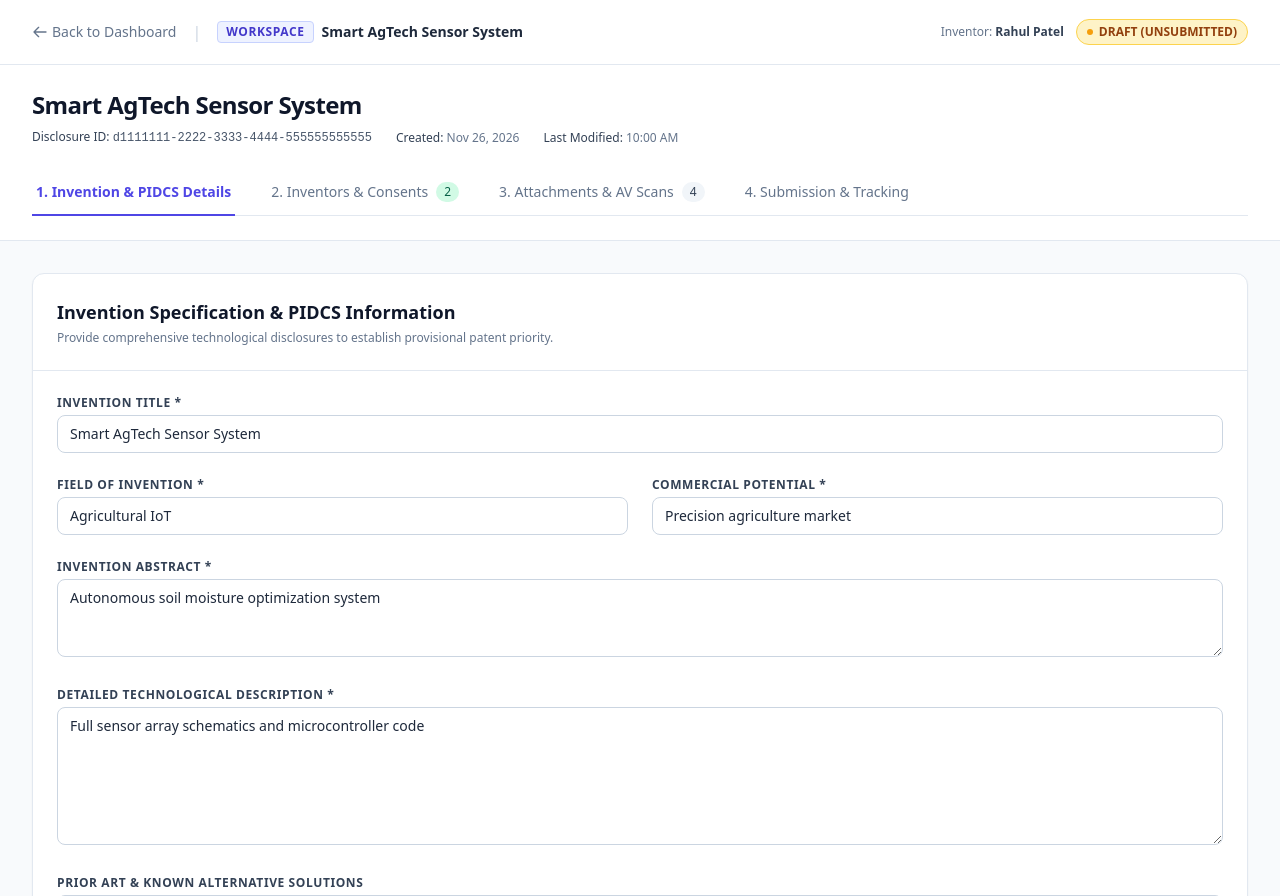
Test: Stage 2G — Student Disclosure Workspace Component › renders all attachment scan status badges (CLEAN, PENDING_SCAN, SCAN_FAILED, INFECTED) and blocks submission when not CLEAN
The width and height of the screenshot is (1280, 896).
Click the button "3. Attachments & AV Scans 4" at (602, 193), box [495,170,709,216]
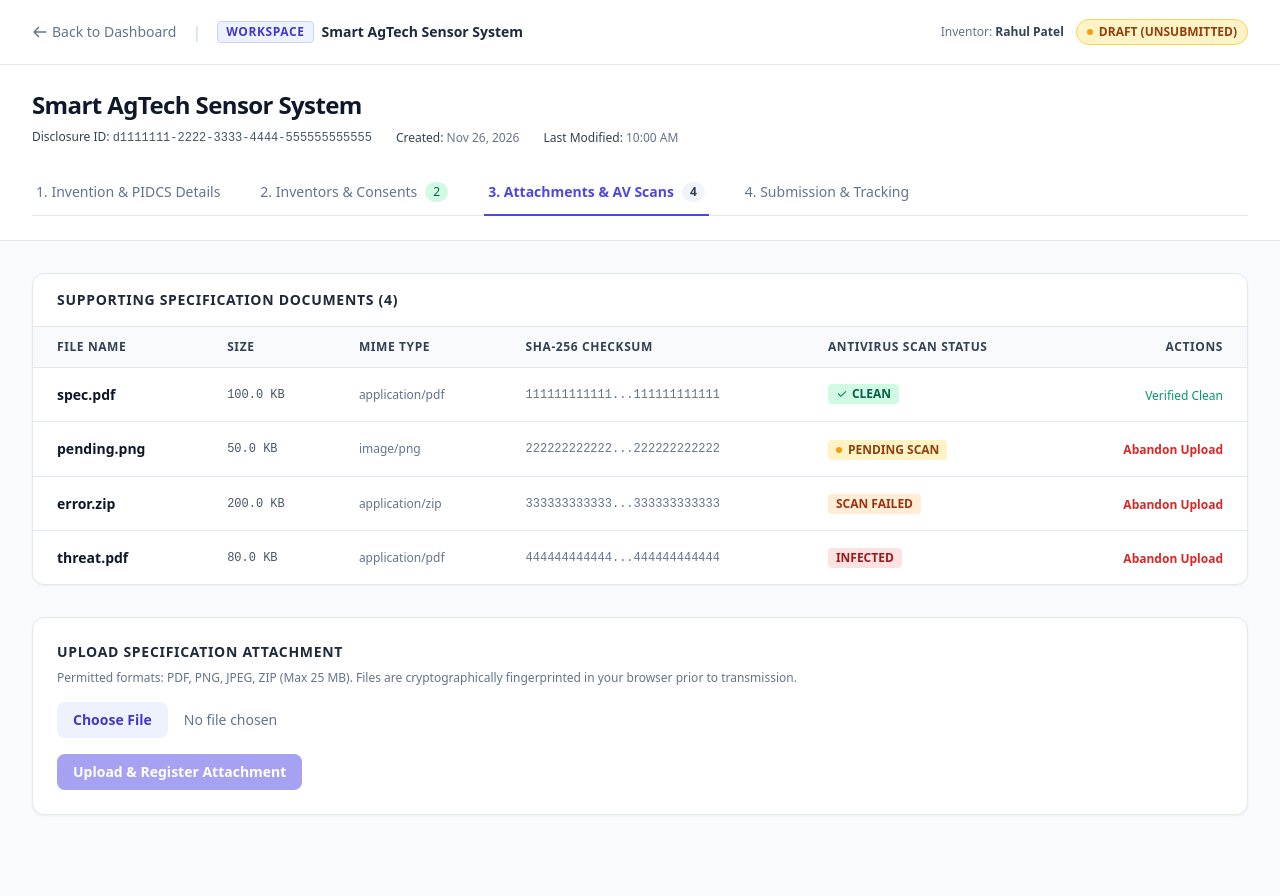
Now the text "CLEAN" is shown, box [828,384,899,404]
Now the text "PENDING SCAN" is shown, box [828,440,947,460]
Now the text "SCAN FAILED" is shown, box [828,494,921,514]
Click the button "4. Submission & Tracking" at (827, 193), box [741,170,913,216]
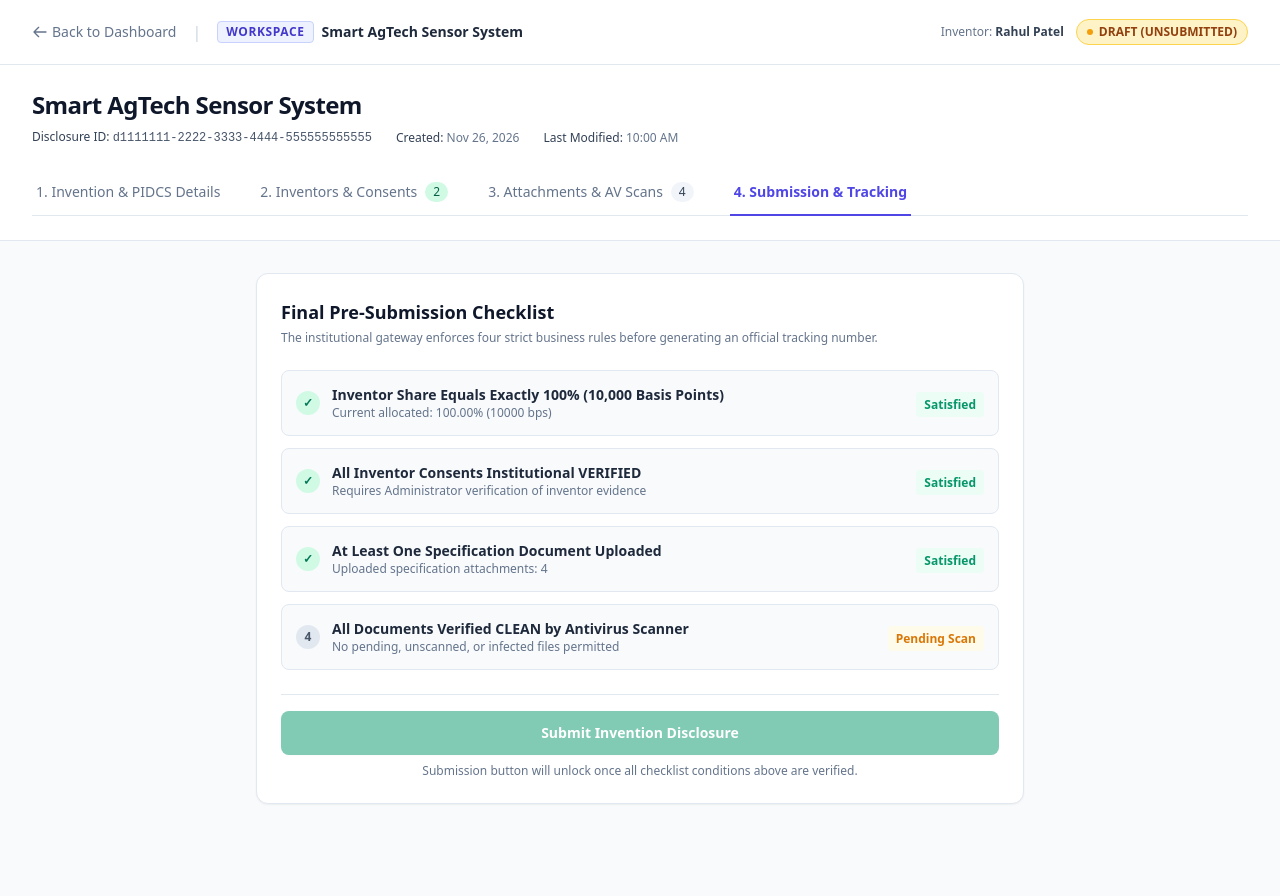
Now the text "Pending Scan" is shown, box [888,626,984,651]
Now the button "Submit Invention Disclosure" is disabled, box [281,711,999,755]
